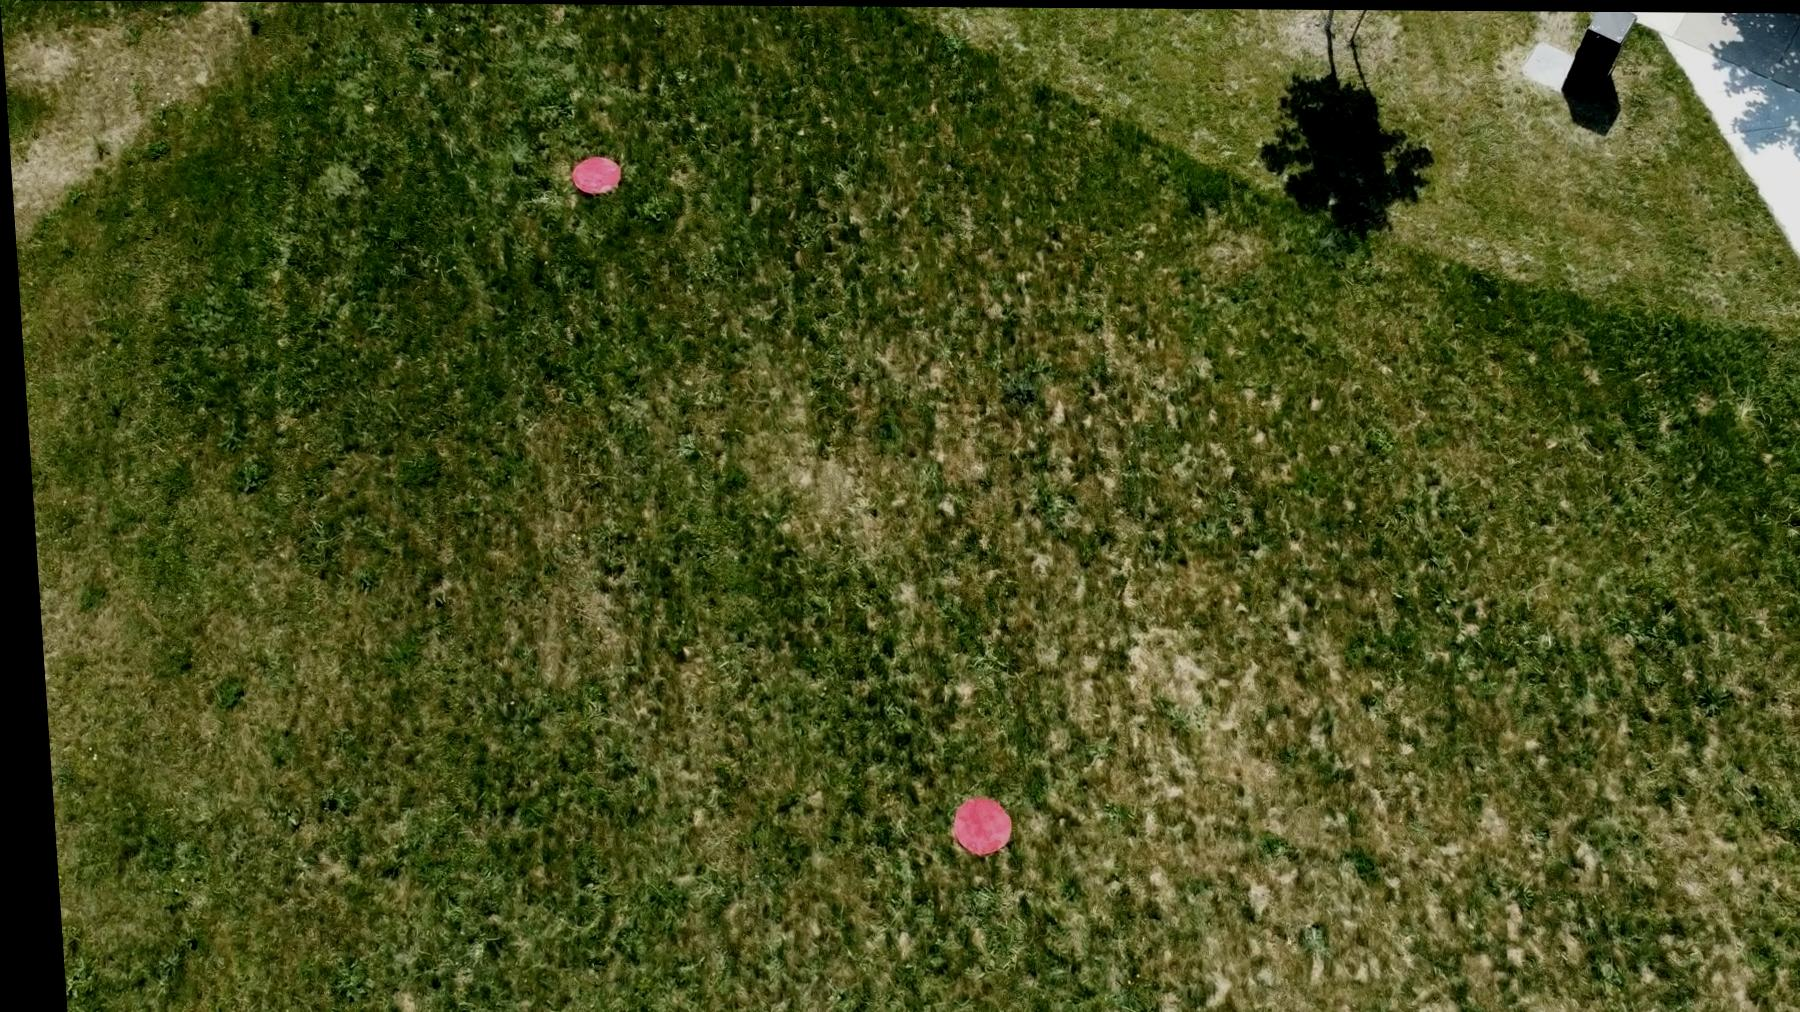Red: (936, 796, 1003, 856), (564, 151, 624, 199)
